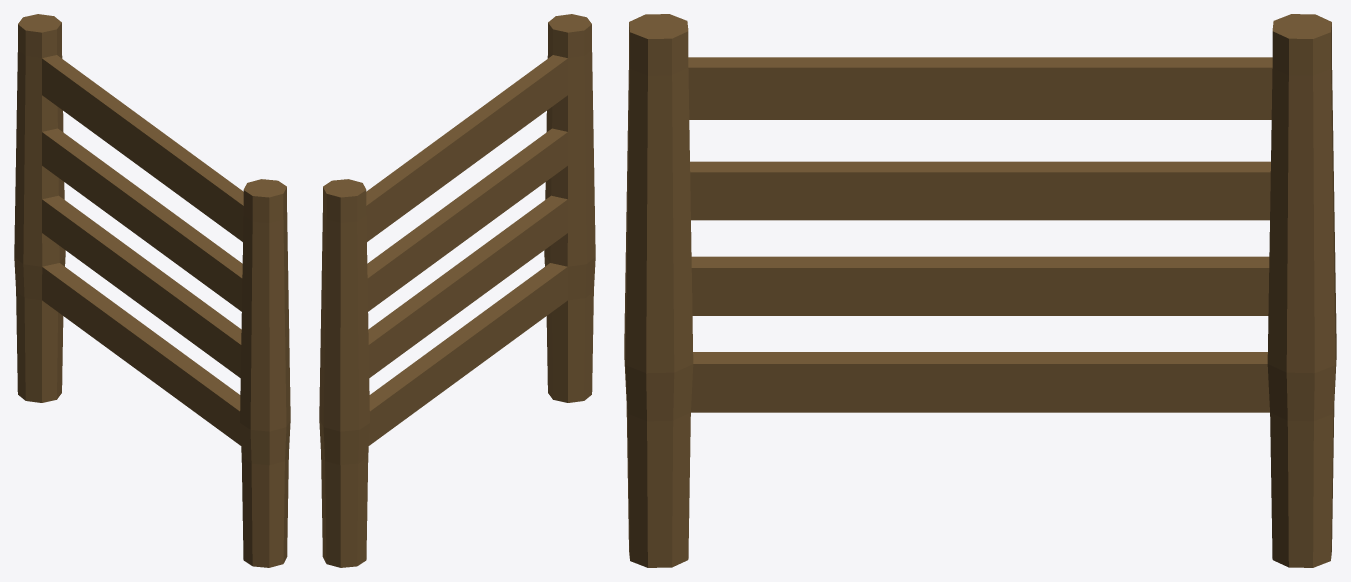
The model's file is lowPoly_fenceUnit.fbx.
The picture shows the model from 3 angles, left to right: view 1: azimuth 30°, elevation 25°; view 2: azimuth 150°, elevation 25°; view 3: azimuth 270°, elevation 25°; orthographic projection. The views are drawn at different scales.
Parts seen in each view (by area): view 1: Cylinder_001; view 2: Cylinder_001; view 3: Cylinder_001.
Boxes of the visible parts, x1,y1,x2,y2 form: Cylinder_001: [14, 14, 290, 567]; Cylinder_001: [319, 14, 595, 567]; Cylinder_001: [624, 14, 1336, 567].
Bounding box in the file's own units: 0.1472 × 1.24 × 1.52.
